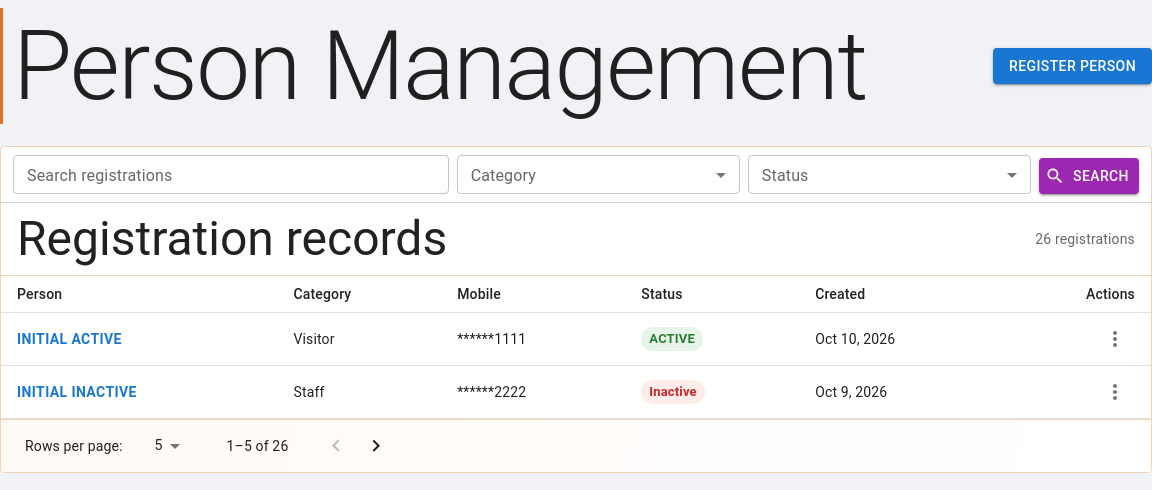
Scenario: loads all registrations, filters by category, and requests the next page
Expected: the link "Initial Active" is shown, x1=17 y1=327 x2=122 y2=351
Expected: the link "Initial Inactive" is shown, x1=17 y1=380 x2=137 y2=404
Click the 1st dropdown named "Category" at (598, 174), box x1=457 y1=155 x2=740 y2=194
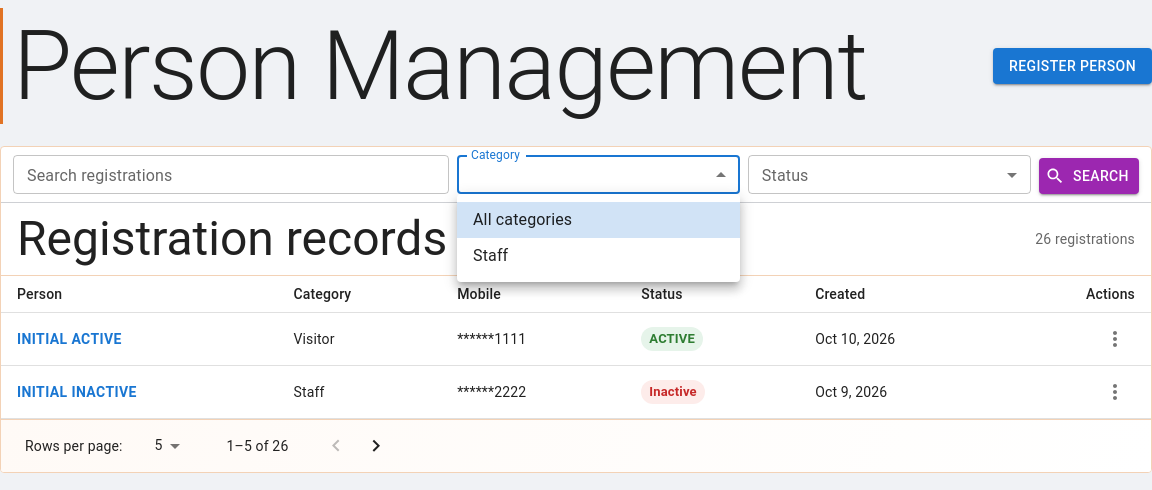
Click the option "Staff" at (491, 256), box x1=473 y1=246 x2=508 y2=265
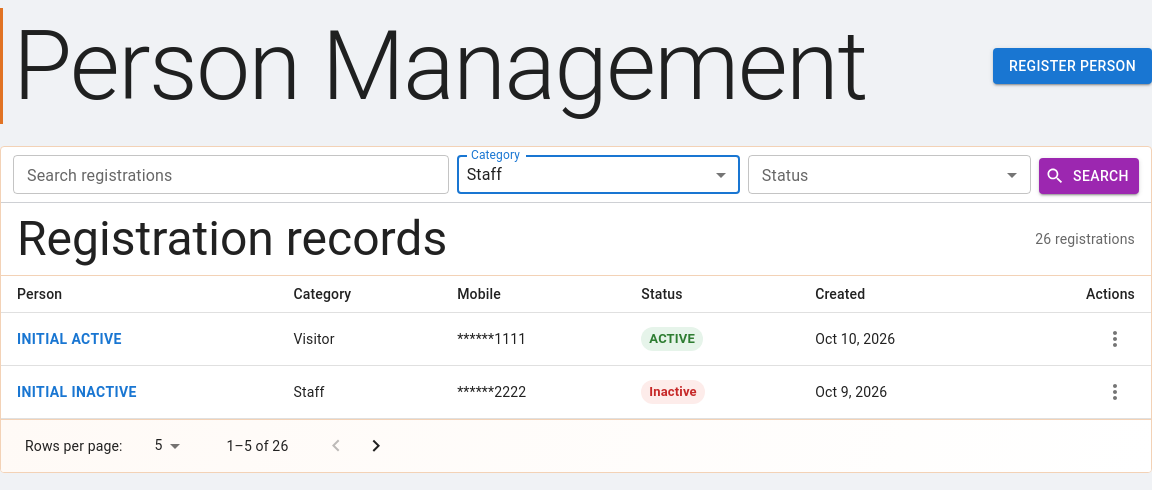
Type "9876543210" into the field labelled "Search registrations" at (231, 174), box x1=13 y1=155 x2=449 y2=194
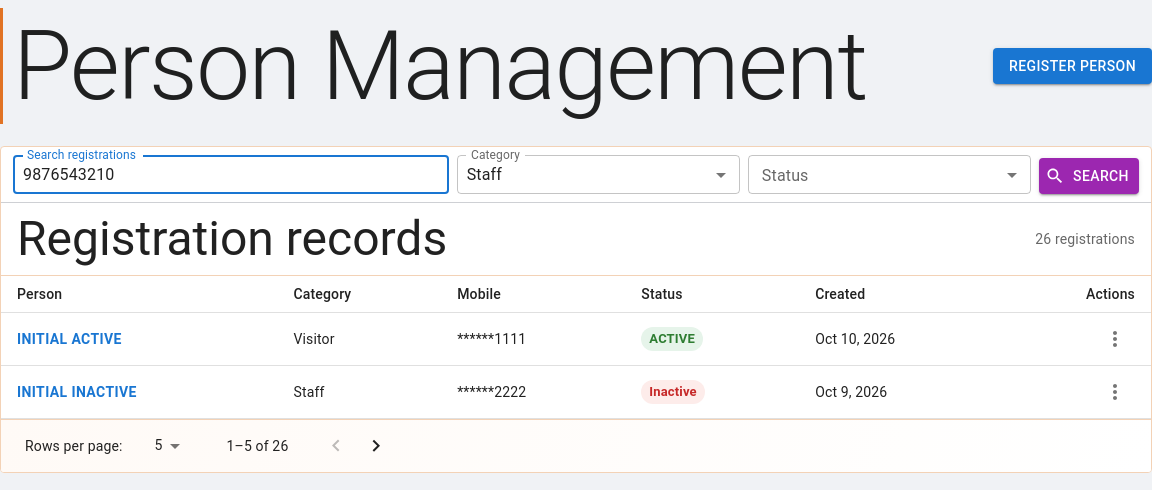
Click the button "Search" at (1089, 176), box x1=1039 y1=158 x2=1139 y2=194
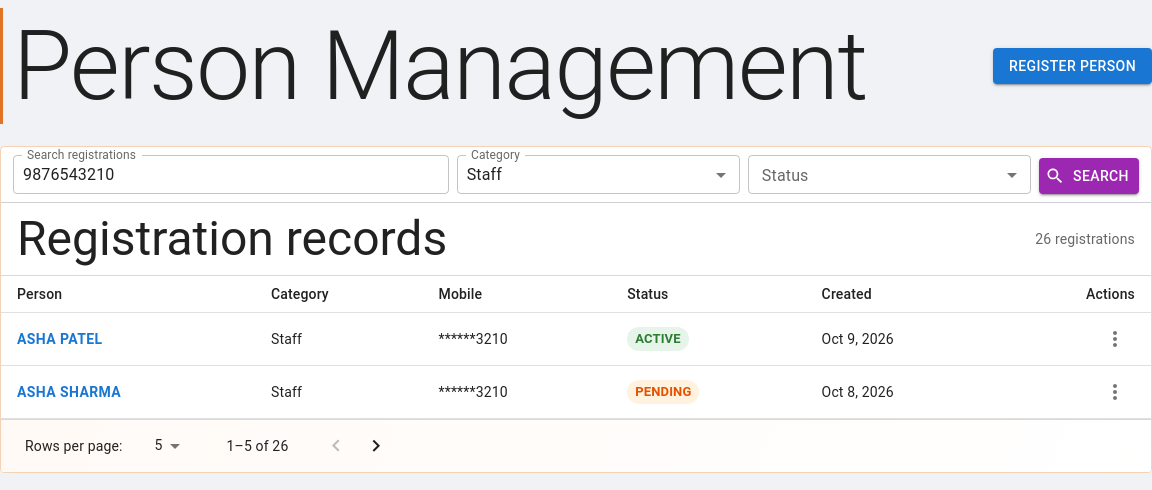
Expected: the text "******3210" is shown 2 times, x1=423 y1=312 x2=611 y2=366; x1=423 y1=366 x2=611 y2=418
Expected: the link "Asha Patel" is shown, x1=17 y1=327 x2=102 y2=351
Click the button named "Go to next page" at (376, 446), box x1=356 y1=426 x2=396 y2=466
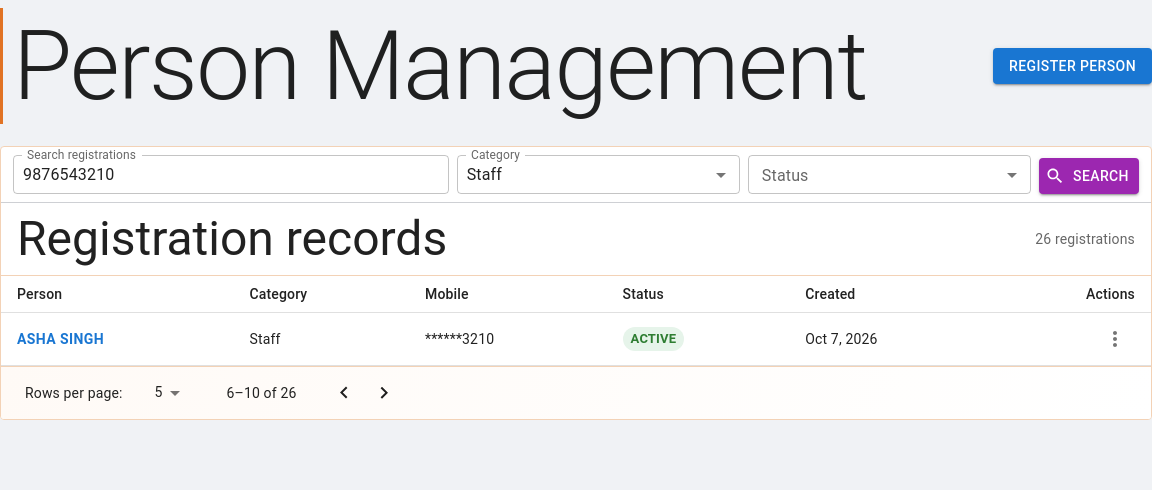
Expected: the link "Asha Singh" is shown, x1=17 y1=327 x2=104 y2=351
